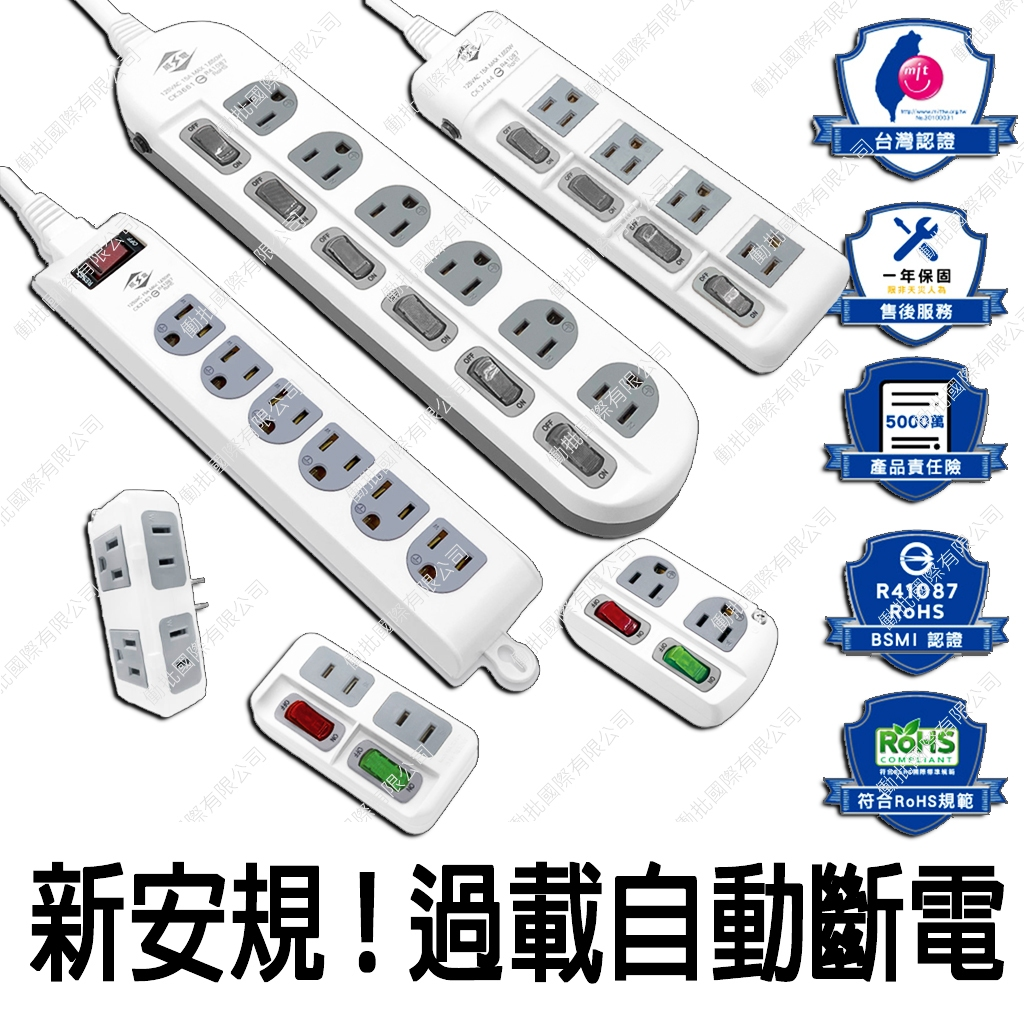socket: (104, 11, 698, 538), (20, 190, 543, 690), (403, 11, 854, 374), (246, 631, 480, 838), (563, 539, 779, 733), (85, 487, 213, 720)
